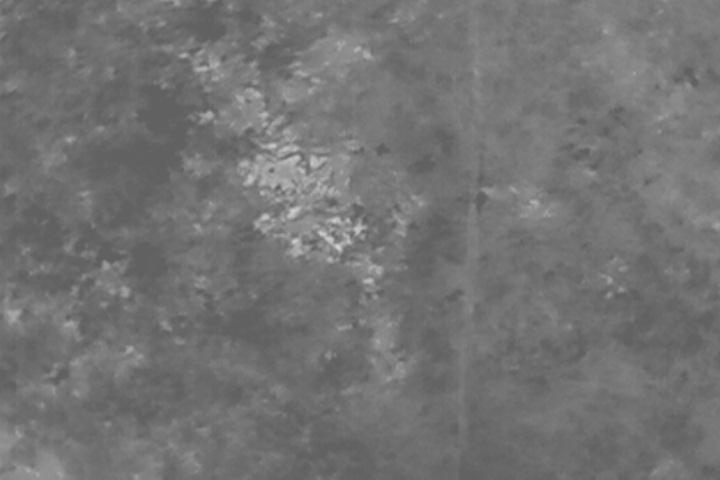landmine: (247, 147, 305, 194)
